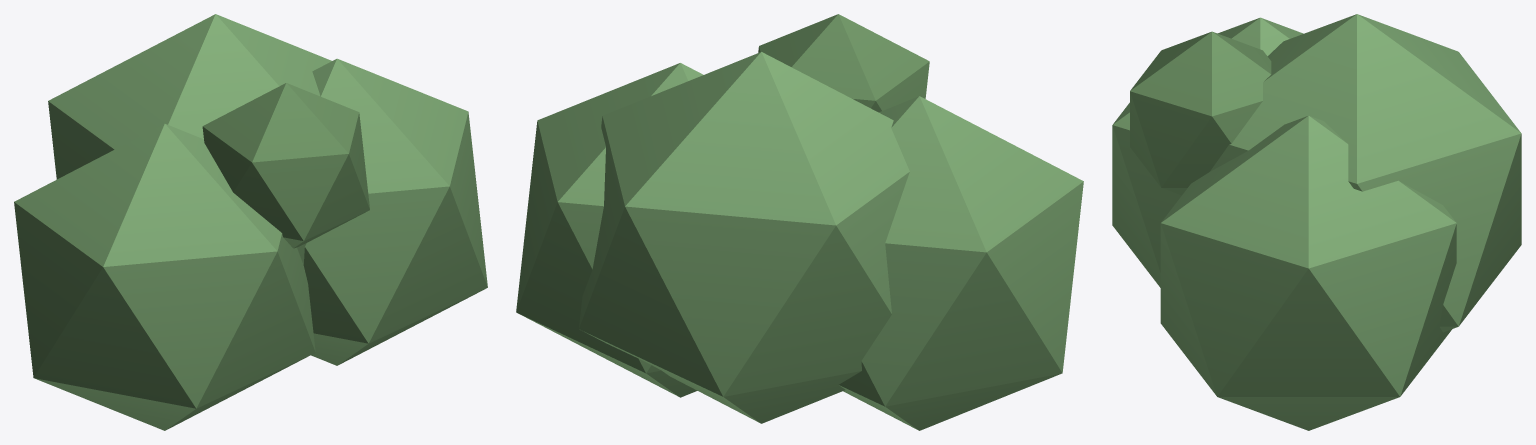
Rendered from bush.glb.
3 renders of one model, left to right at view 1: azimuth 30°, elevation 25°; view 2: azimuth 150°, elevation 25°; view 3: azimuth 270°, elevation 25°, orthographic. The views are drawn at different scales.
Parts seen in each view (by area): view 1: bush; view 2: bush; view 3: bush.
Part boxes in pixels (x1,y1,x2,y2): bush: [14, 14, 487, 430]; bush: [516, 14, 1083, 430]; bush: [1112, 14, 1521, 430].
Size of the model in its own units: 0.562 by 0.42 by 0.4232.
